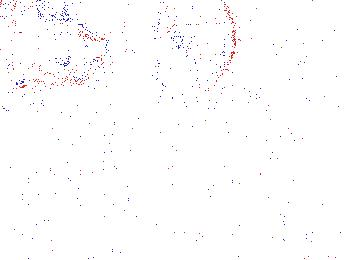moon jellyfish: (157, 1, 237, 102), (1, 1, 79, 87), (217, 86, 283, 168), (299, 93, 346, 150)
